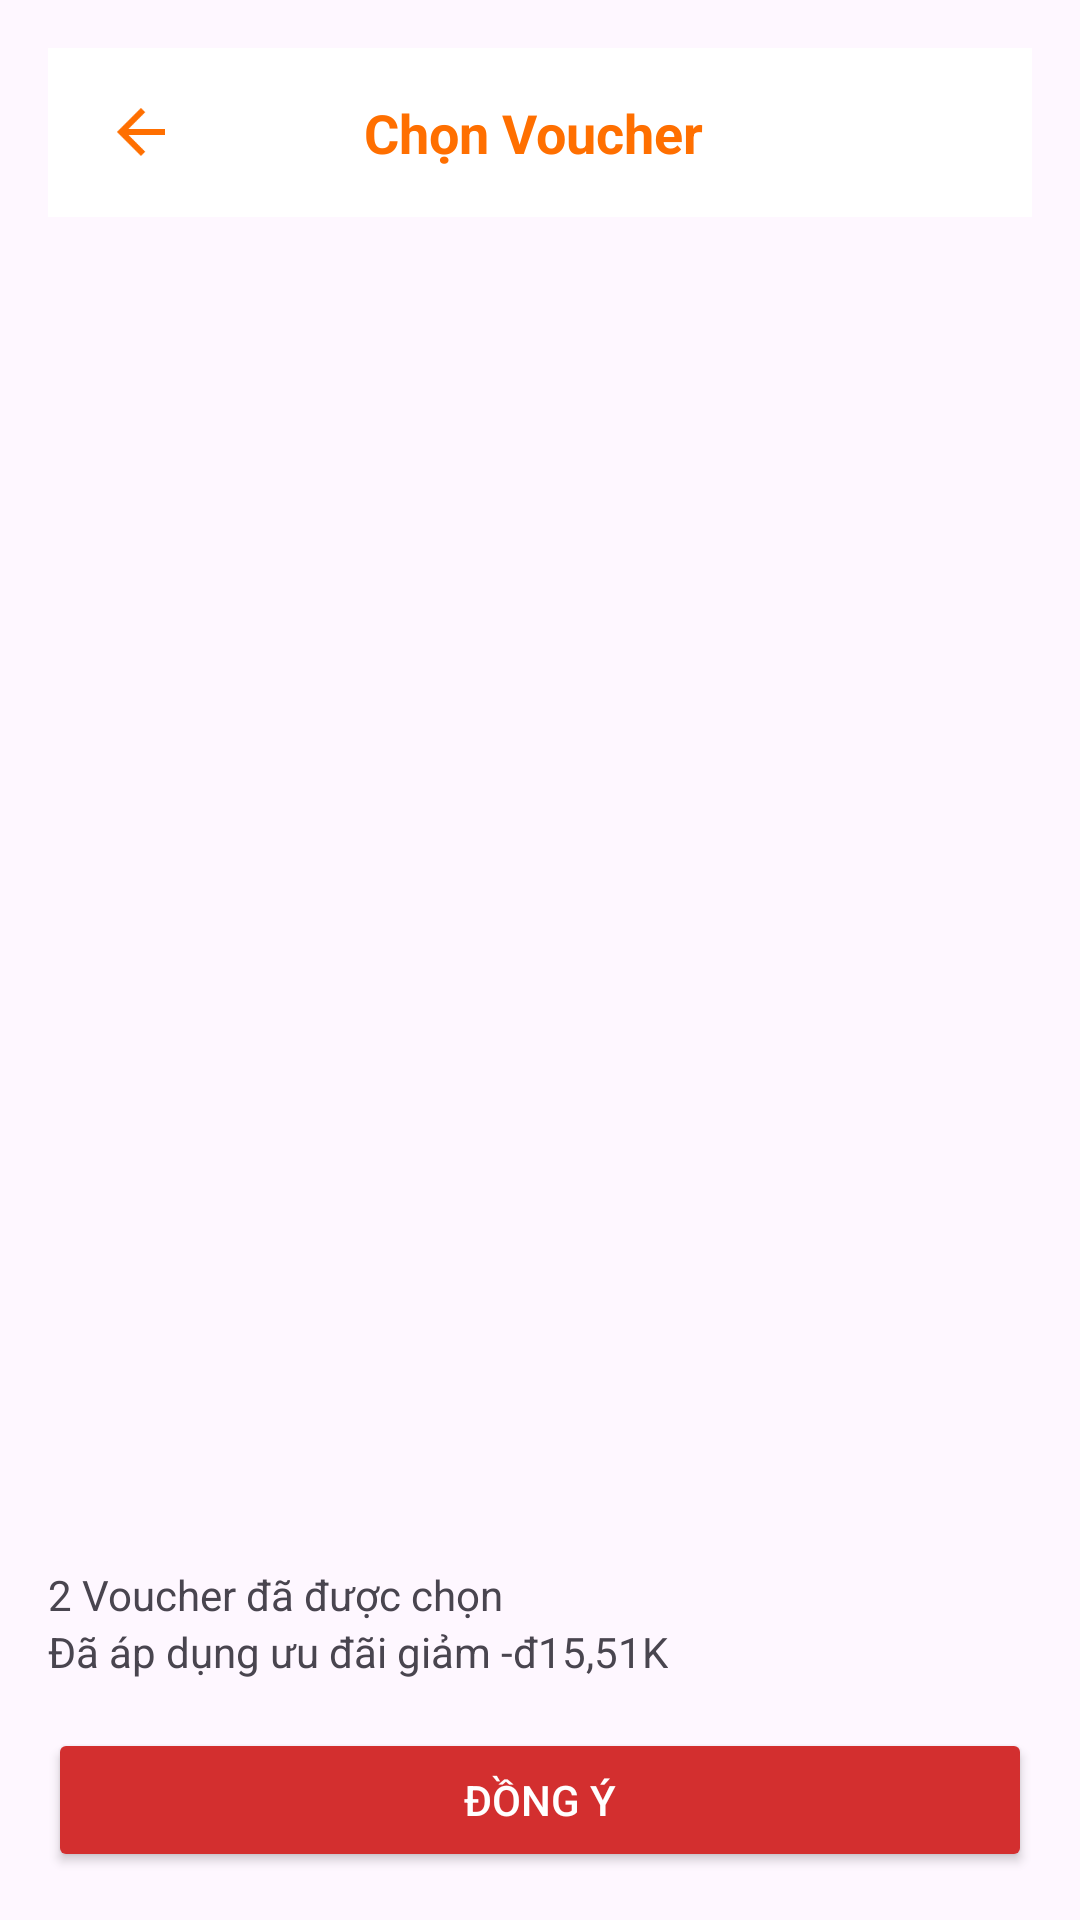

Icon bounding boxes for this 1080 × 1920 phone screenshot, format (x1, y1, x2, y2):
left: (117, 108, 165, 156)
